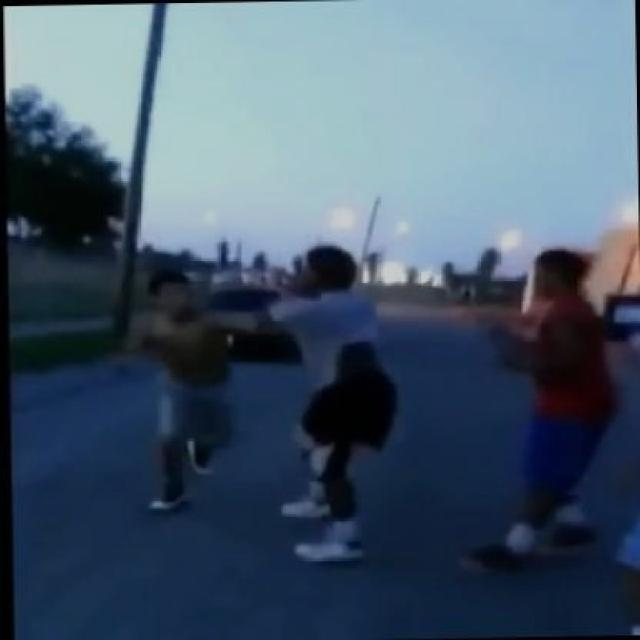fight: (111, 240, 402, 585)
non-fight: (474, 247, 622, 567)
